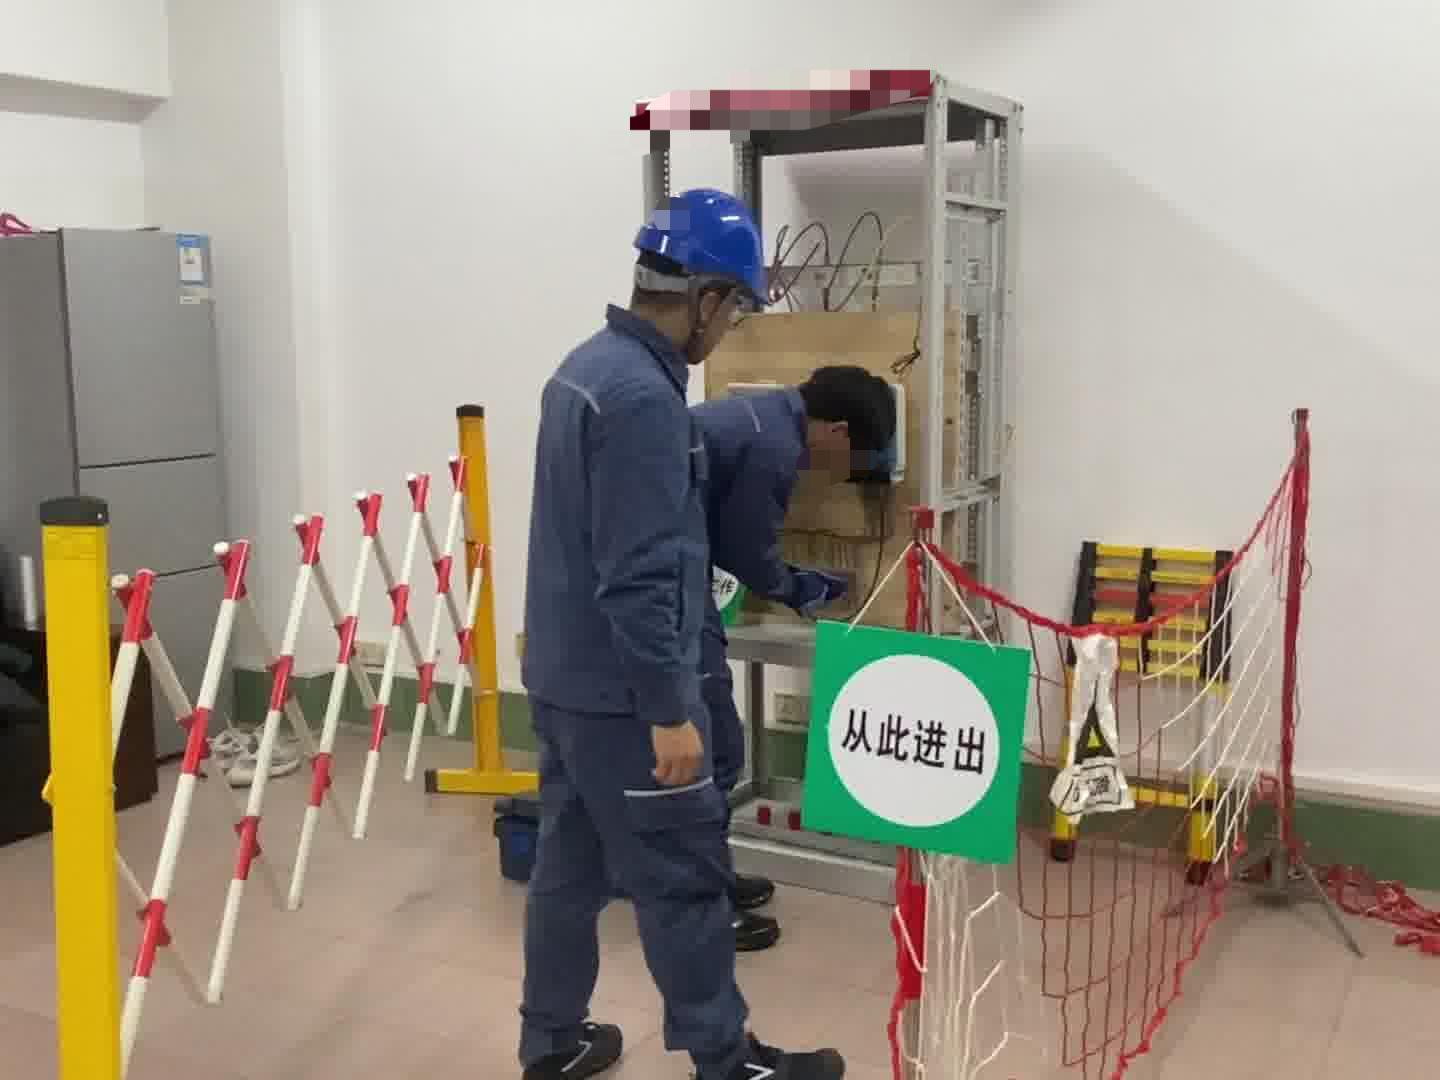halt: (629, 188, 774, 362)
inear: (684, 277, 734, 352)
noear: (815, 414, 857, 462)
unhalt: (798, 366, 903, 479)
